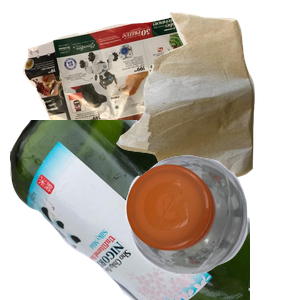glass: (10, 120, 250, 300)
paper: (20, 10, 231, 190)
plastic: (123, 152, 300, 300)
trash: (114, 10, 300, 189)
